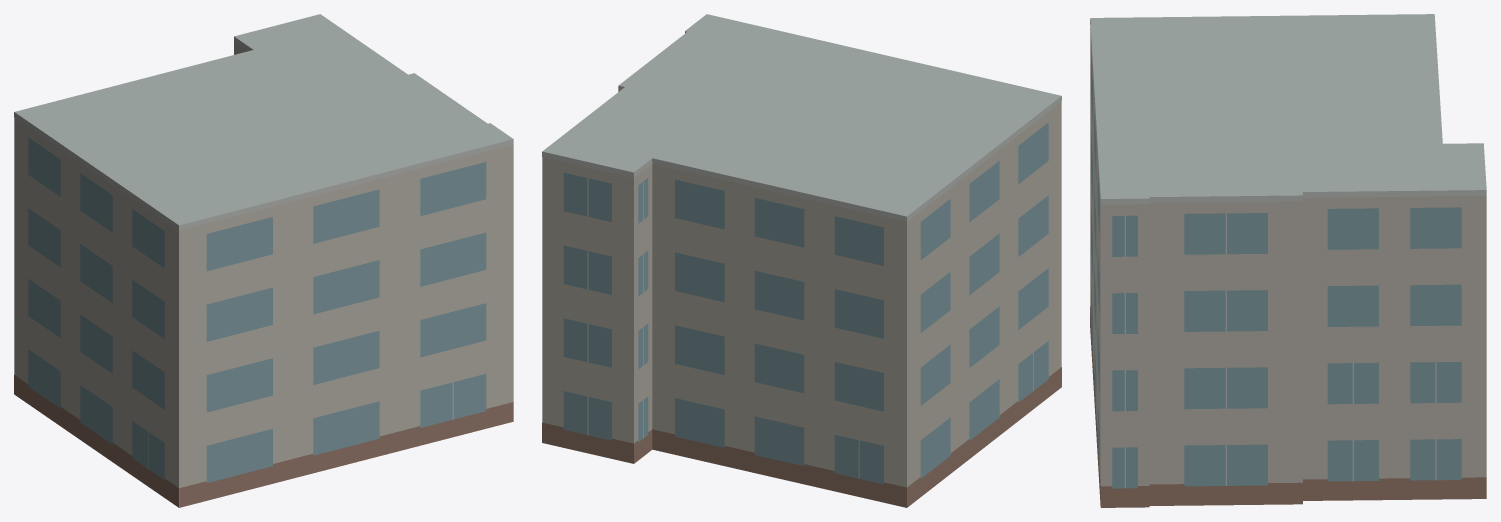
Rendered from survey-upis-32582242.glb.
3 renders of one model, left to right at view 1: azimuth 30°, elevation 25°; view 2: azimuth 150°, elevation 25°; view 3: azimuth 270°, elevation 25°, orthographic. The views are drawn at different scales.
Visible parts, largest first — view 1: survey-upis-32582242.tmp; view 2: survey-upis-32582242.tmp; view 3: survey-upis-32582242.tmp.
Part boxes in pixels (bbox=[...]): survey-upis-32582242.tmp: bbox=[14, 14, 513, 507]; survey-upis-32582242.tmp: bbox=[542, 14, 1061, 507]; survey-upis-32582242.tmp: bbox=[1090, 14, 1486, 507].
Size of the model in its own units: 16.59 by 12.91 by 15.03.
